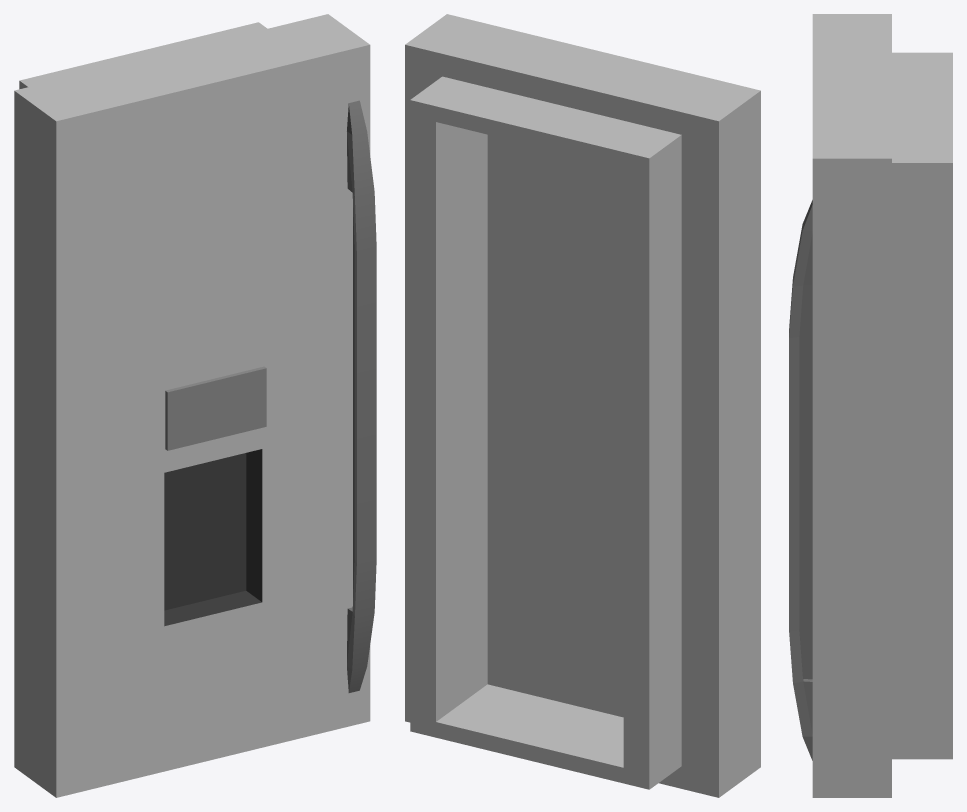
The model's file is Itr_Obj_Fridge1_Top_Door_Left_01.FBX.
3 renders of one model, left to right at view 1: azimuth 30°, elevation 25°; view 2: azimuth 150°, elevation 25°; view 3: azimuth 270°, elevation 25°, orthographic. The views are drawn at different scales.
Parts seen in each view (by area): view 1: Itr_Obj_Fridge1_Top_Door_Left_01; view 2: Itr_Obj_Fridge1_Top_Door_Left_01; view 3: Itr_Obj_Fridge1_Top_Door_Left_01.
Boxes of the visible parts, left/top/right/bottom form: Itr_Obj_Fridge1_Top_Door_Left_01: left=14, top=14, right=376, bottom=797; Itr_Obj_Fridge1_Top_Door_Left_01: left=405, top=14, right=760, bottom=797; Itr_Obj_Fridge1_Top_Door_Left_01: left=789, top=14, right=952, bottom=797.
Size of the model in its own units: 22.45 by 46.23 by 10.74.
